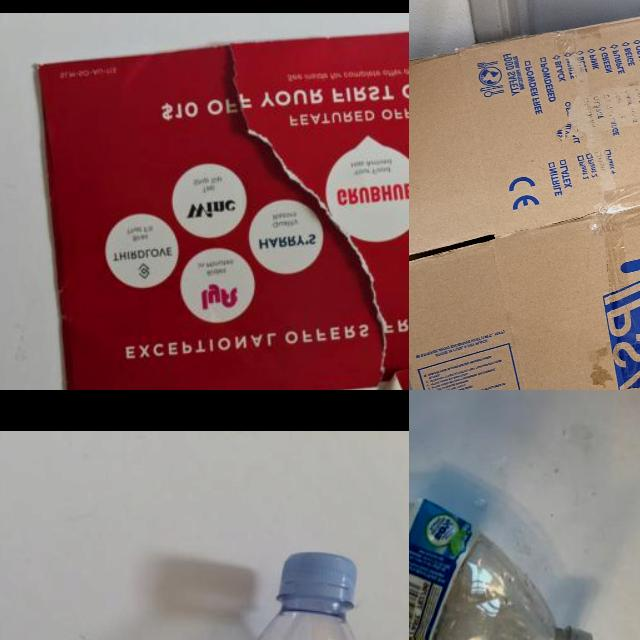garrafa plástica: (409, 458, 554, 640)
papel: (39, 13, 409, 390)
papelão: (409, 0, 640, 390)
tampa plástica: (276, 551, 358, 609), (551, 623, 595, 640)
